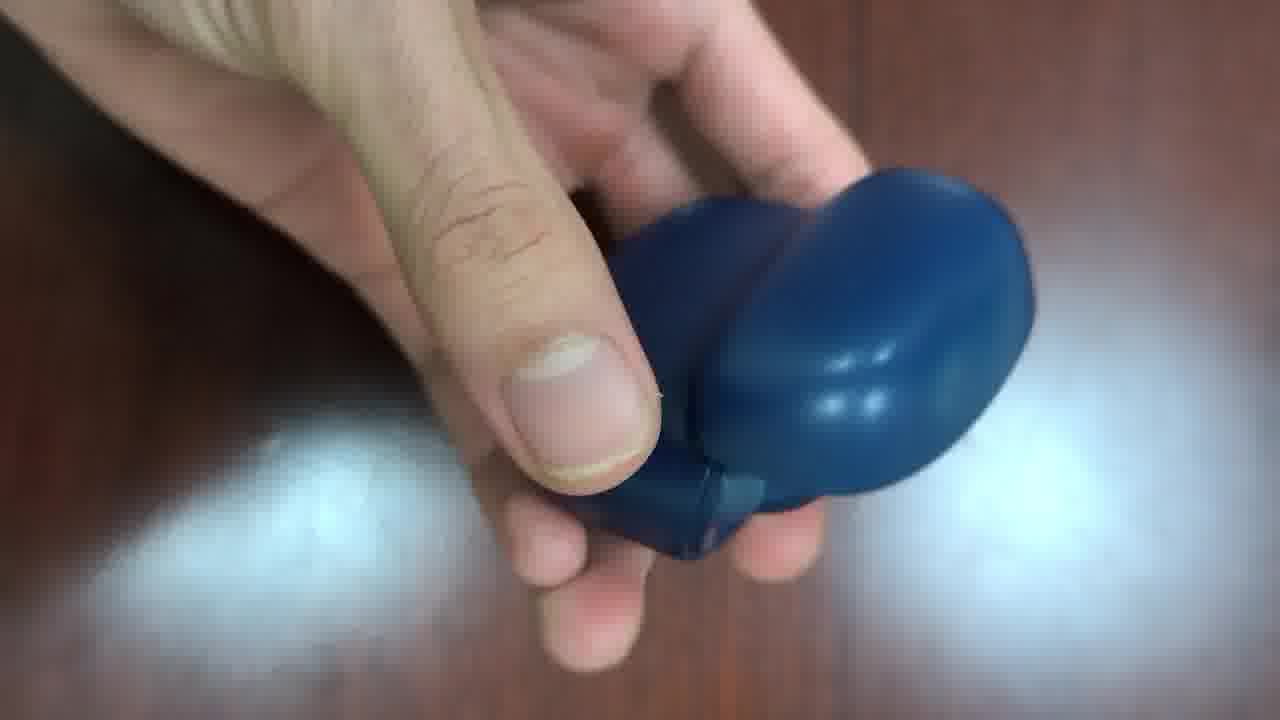Case: (556, 168, 1033, 558)
